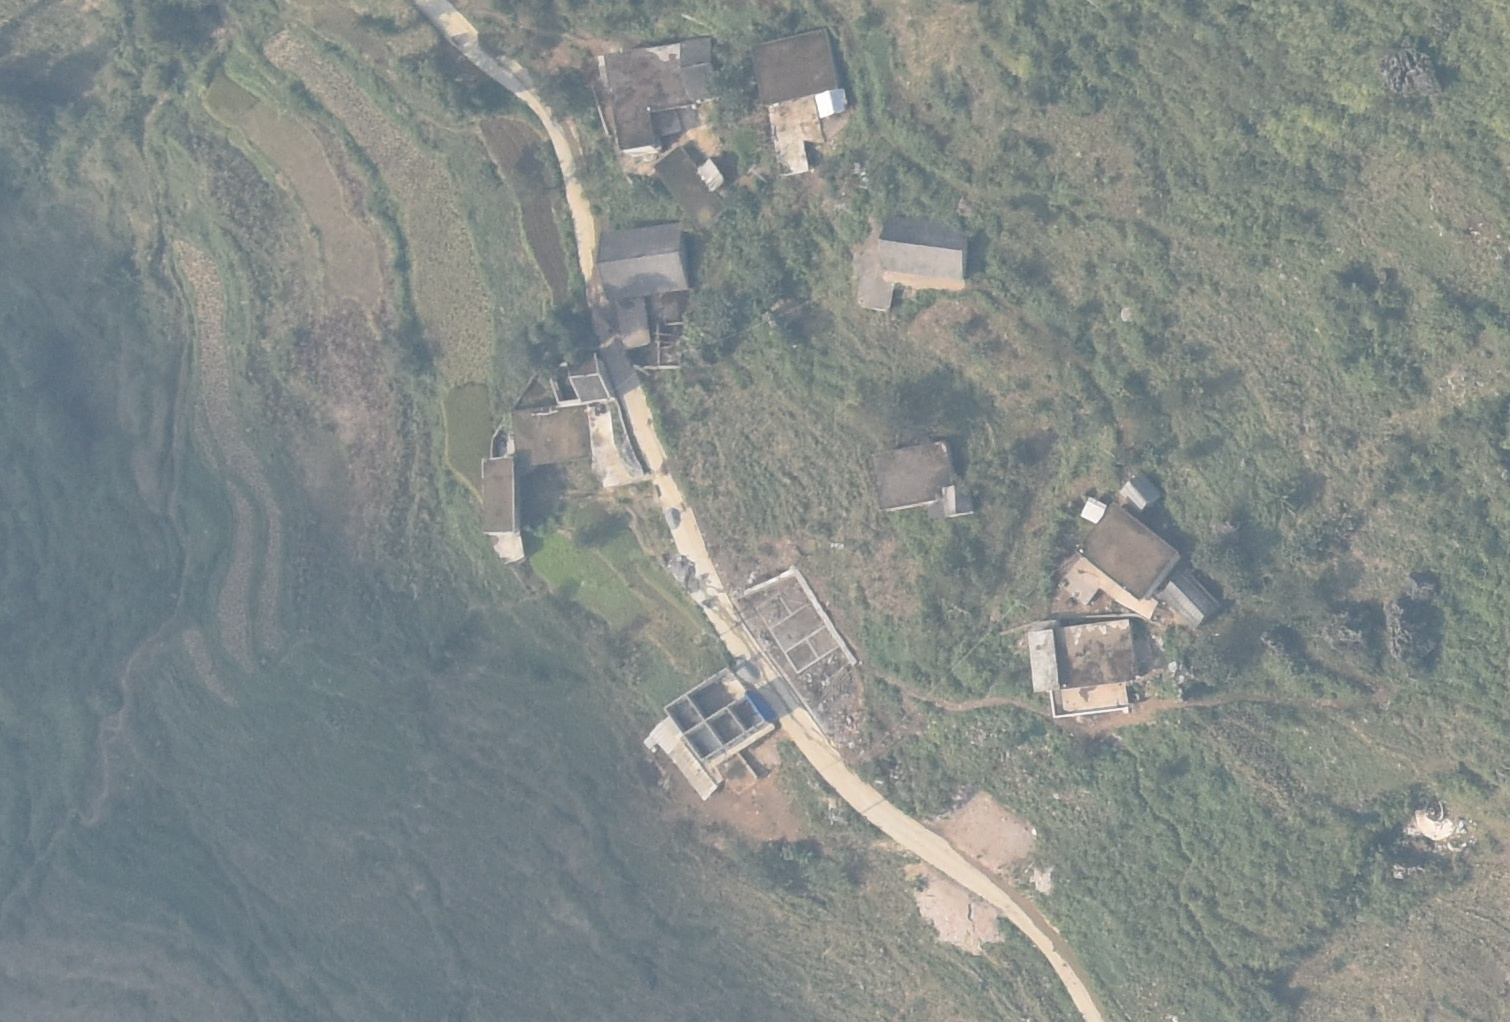building: (603, 31, 726, 153), (667, 662, 780, 770), (1076, 503, 1184, 606), (1015, 613, 1140, 688), (876, 212, 974, 293), (590, 221, 692, 297), (865, 437, 957, 512), (754, 24, 846, 98), (654, 143, 731, 225), (539, 354, 628, 412), (476, 450, 521, 539), (1168, 569, 1216, 625), (1113, 470, 1165, 514), (935, 480, 980, 521), (811, 86, 848, 116)
